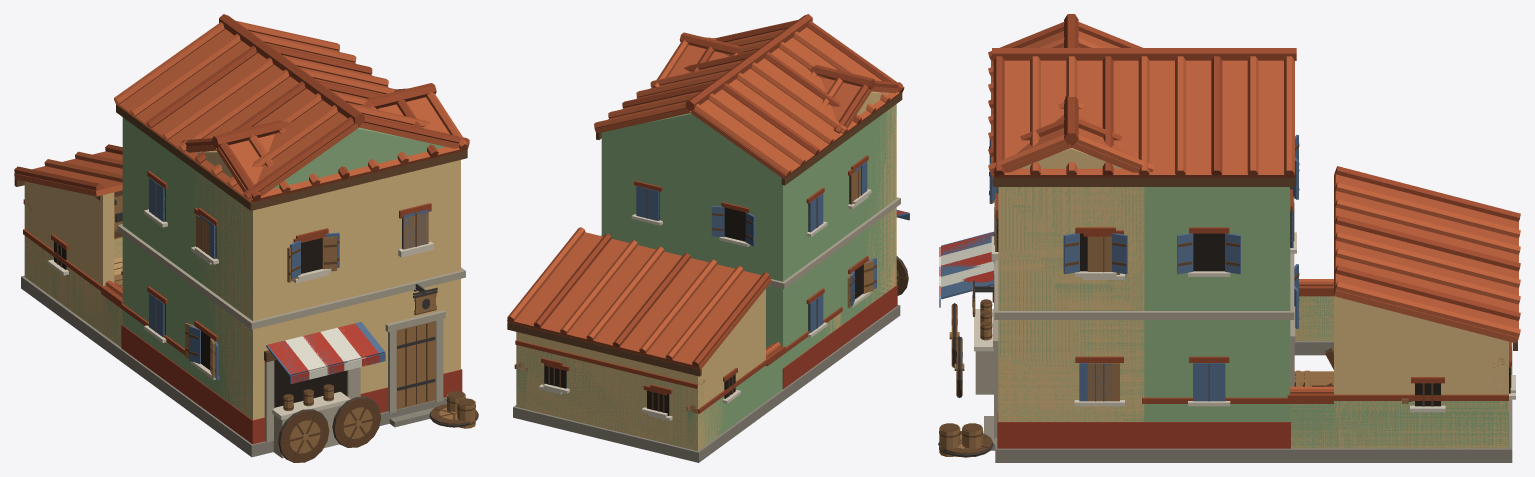
File: Handwerkerhaus.fbx
3 views of the same model, side by side, from view 1: azimuth 30°, elevation 25°; view 2: azimuth 150°, elevation 25°; view 3: azimuth 270°, elevation 25° (orthographic). The views are drawn at different scales.
Visible parts, largest first — view 1: Handwerkerhaus_0, Handwerkerhaus_1; view 2: Handwerkerhaus_1, Handwerkerhaus_0; view 3: Handwerkerhaus_1, Handwerkerhaus_0.
Boxes of the visible parts, bbox=[...] form: Handwerkerhaus_0: bbox=[14, 83, 475, 457]; Handwerkerhaus_1: bbox=[21, 14, 478, 462]; Handwerkerhaus_1: bbox=[513, 14, 909, 462]; Handwerkerhaus_0: bbox=[507, 32, 907, 462]; Handwerkerhaus_1: bbox=[938, 48, 1515, 462]; Handwerkerhaus_0: bbox=[939, 14, 1520, 462].
Size of the model in its own units: 1.78 by 2.47 by 3.6.
